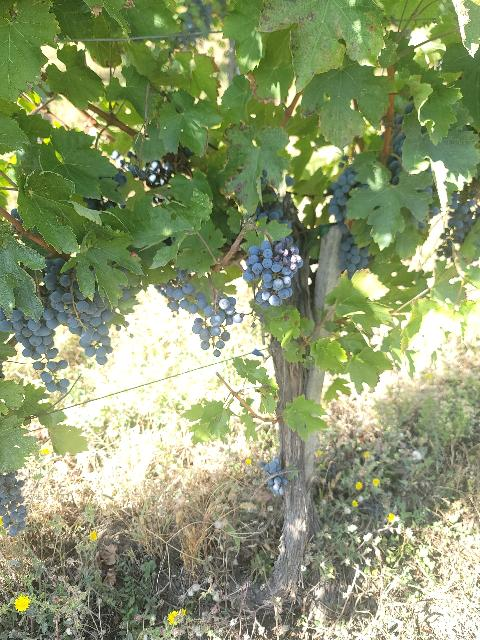grapes: (0, 259, 70, 394), (51, 271, 115, 365), (329, 168, 369, 278), (243, 236, 302, 310), (192, 296, 243, 356), (259, 456, 289, 496)
